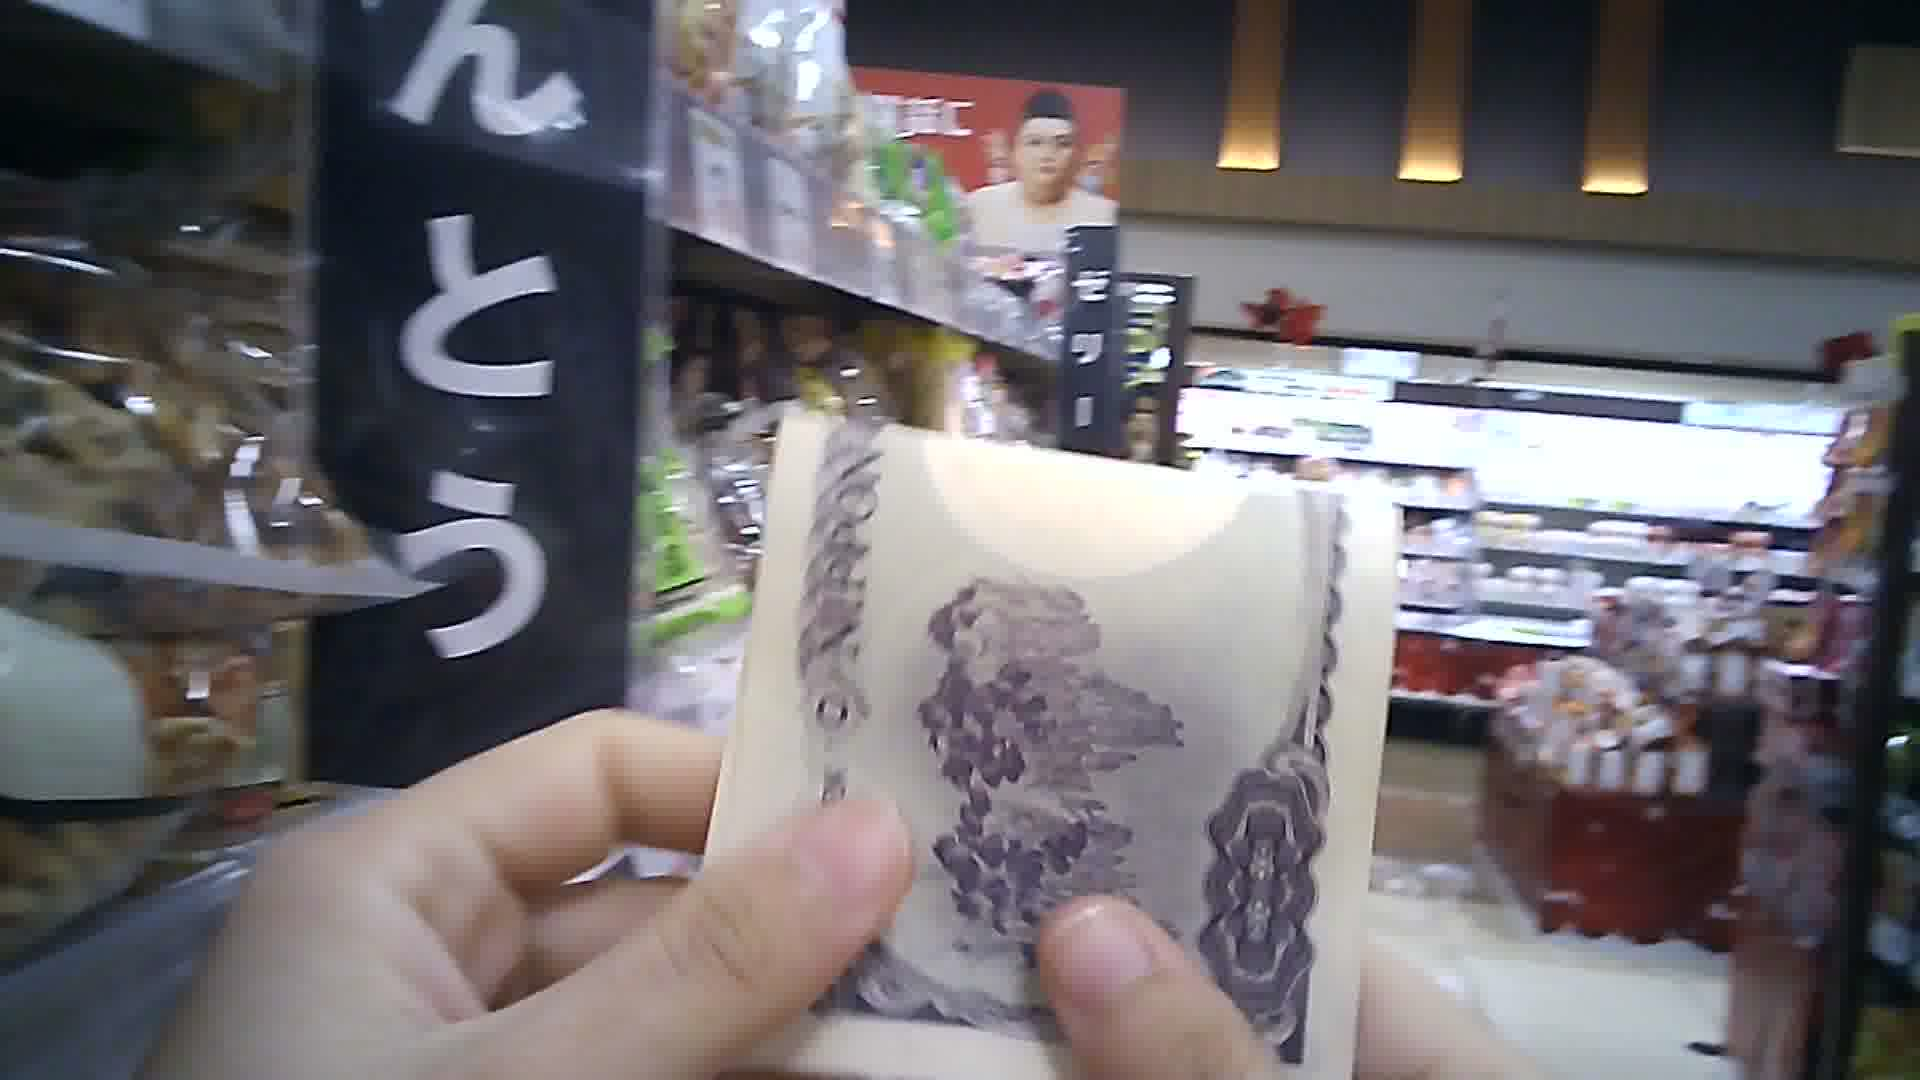5,000 Yen: (698, 397, 1393, 1079)
